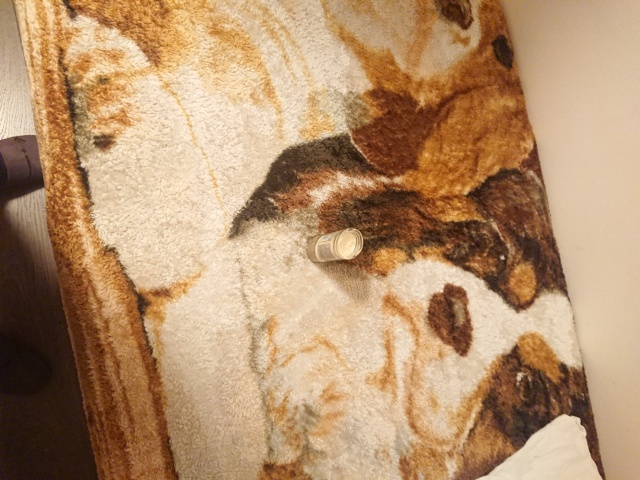Kotanyi Garlic Granules 70g: (305, 225, 365, 266)
